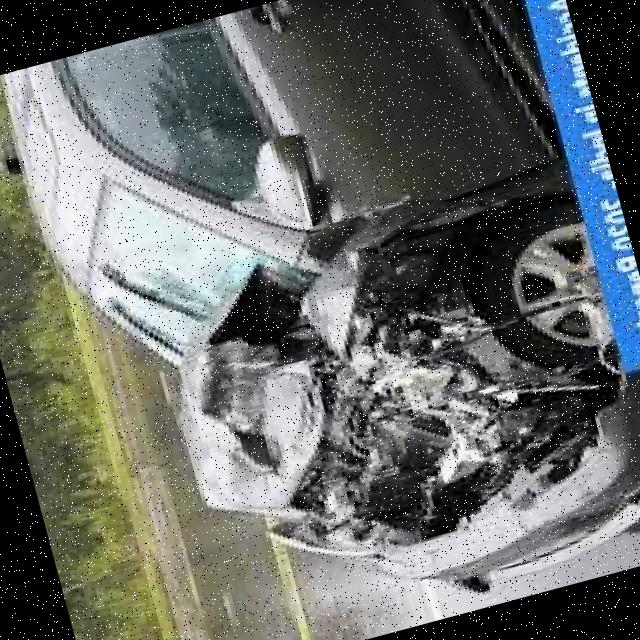Severe Damage: (141, 200, 640, 639)
